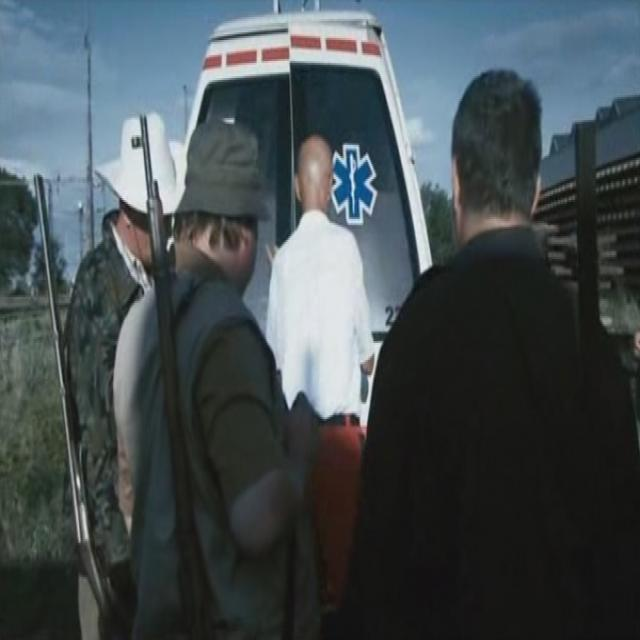rifle: (129, 92, 219, 640), (28, 170, 129, 640)
